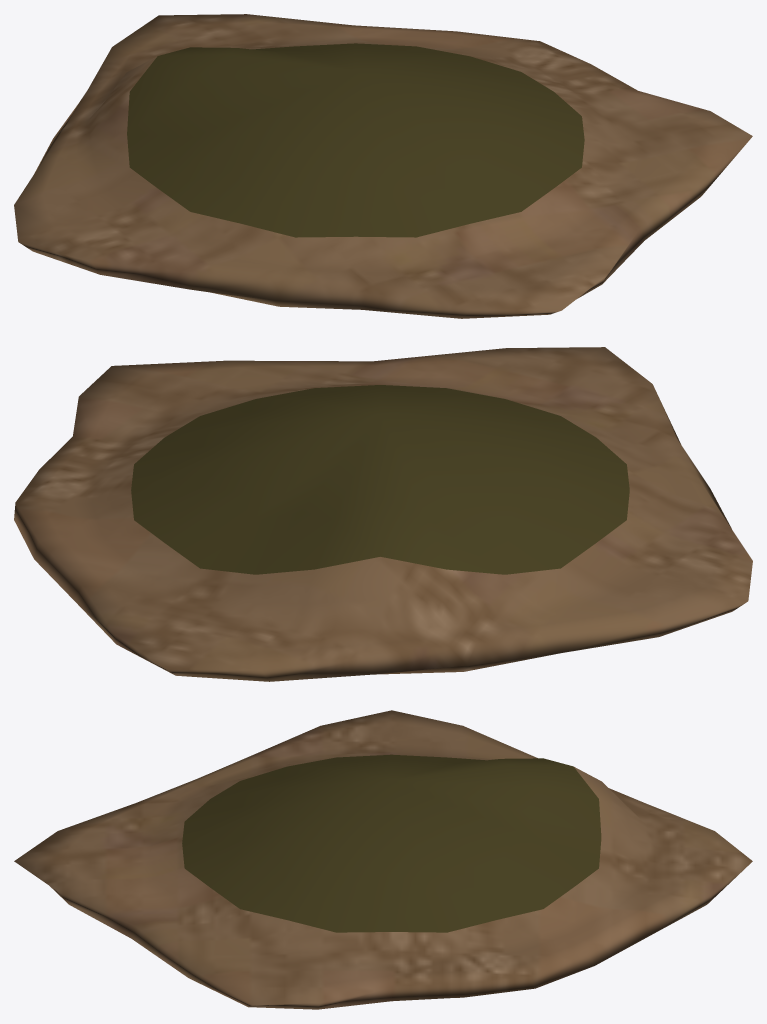
The model's file is planting area.fbx.
3 renders of one model, top to bottom at view 1: azimuth 30°, elevation 25°; view 2: azimuth 150°, elevation 25°; view 3: azimuth 270°, elevation 25°, orthographic. The views are drawn at different scales.
Visible parts, largest first — view 1: pCylinder110; view 2: pCylinder110; view 3: pCylinder110.
Part boxes in pixels (bbox=[...]): pCylinder110: bbox=[14, 14, 752, 318]; pCylinder110: bbox=[14, 347, 752, 681]; pCylinder110: bbox=[14, 710, 752, 1009].
Bounding box in the file's own units: 85.04 × 14.69 × 90.06.
